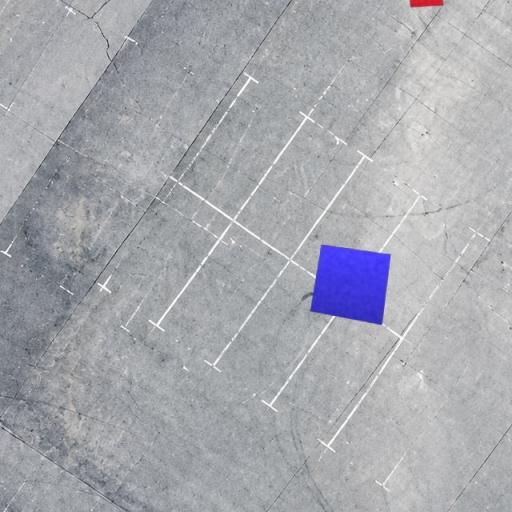BLUE_SQUARE: (310, 244, 392, 326)
